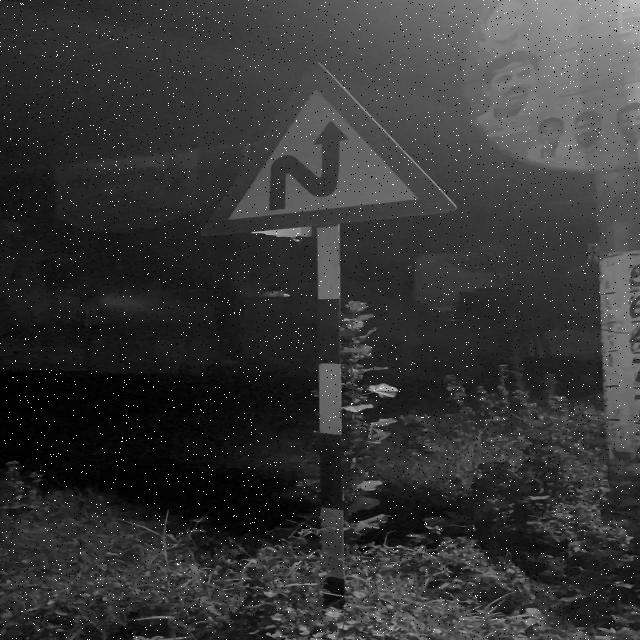Doublecurve_First to right: (205, 67, 433, 232)
